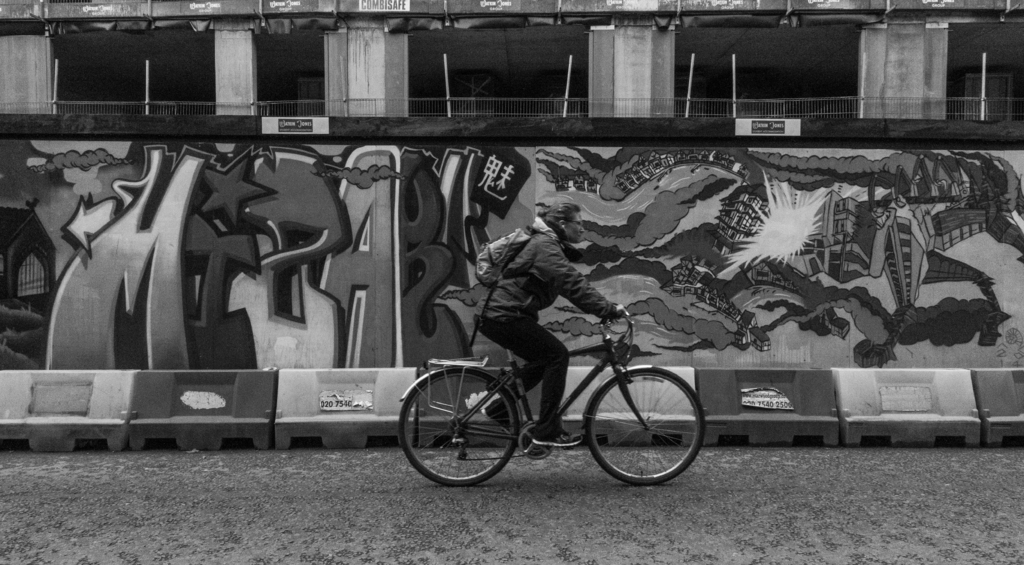Bike: (399, 309, 707, 487)
